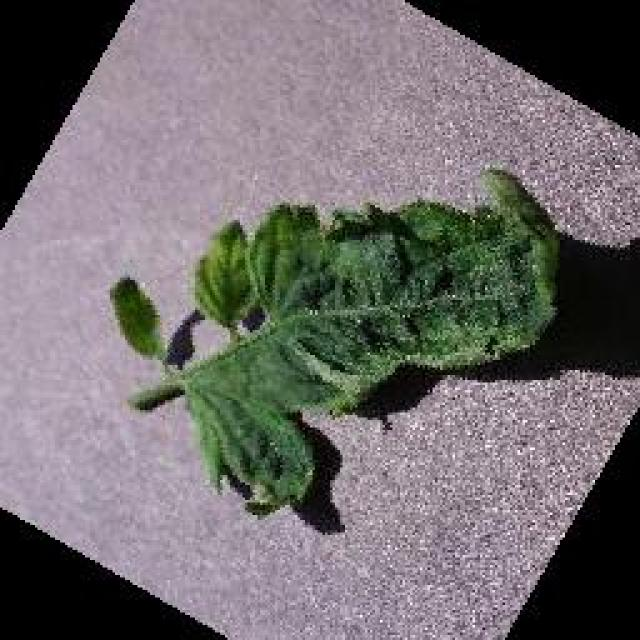Tomato___Tomato_mosaic_virus: (110, 170, 558, 512)
